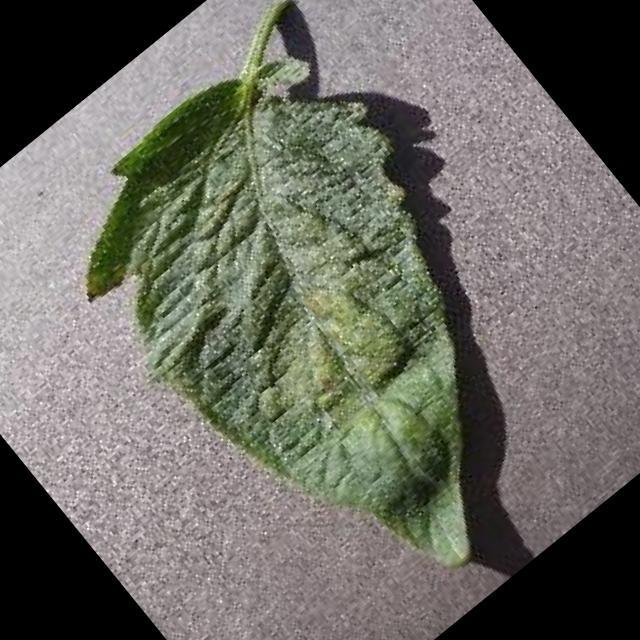Tomato spider mites leaf: (27, 15, 631, 640)
